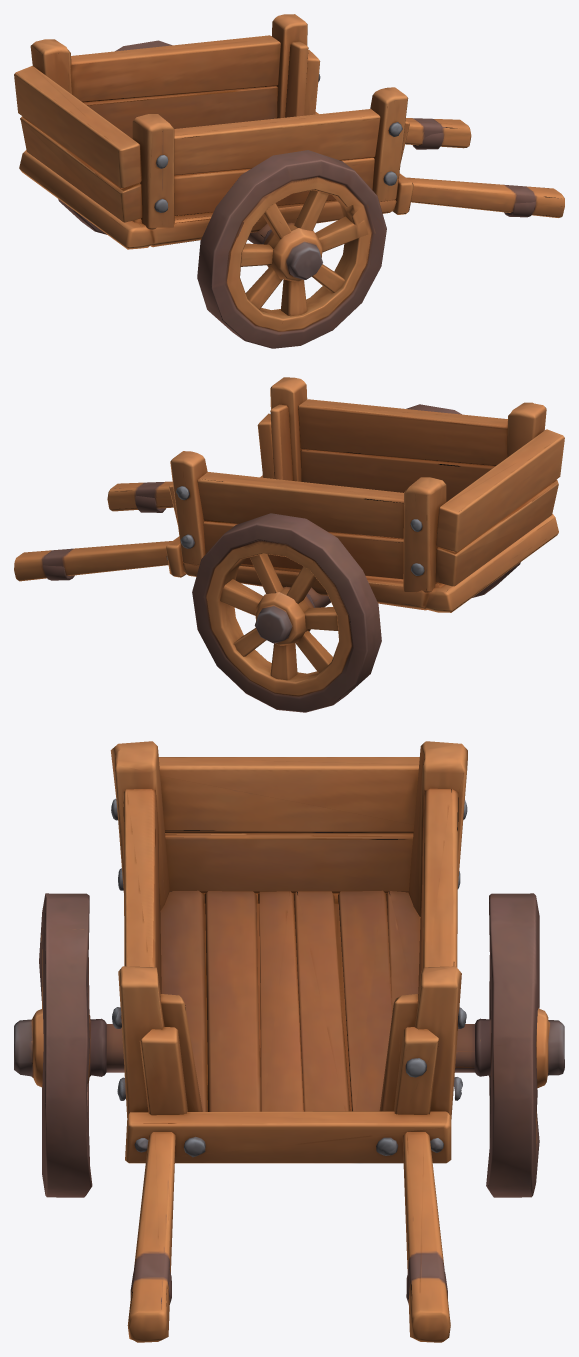
The model's file is PRP_HandCart.fbx.
3 views of the same model, one above another, from view 1: azimuth 30°, elevation 25°; view 2: azimuth 150°, elevation 25°; view 3: azimuth 270°, elevation 25° (orthographic). The views are drawn at different scales.
Parts seen in each view (by area): view 1: geometry_0; view 2: geometry_0; view 3: geometry_0.
Boxes of the visible parts, <box> form: geometry_0: <box>14,14,564,348</box>; geometry_0: <box>14,377,564,712</box>; geometry_0: <box>14,741,564,1342</box>.
Bounding box in the file's own units: 95.31 × 47.75 × 67.87.
1 material, 1 textured.
